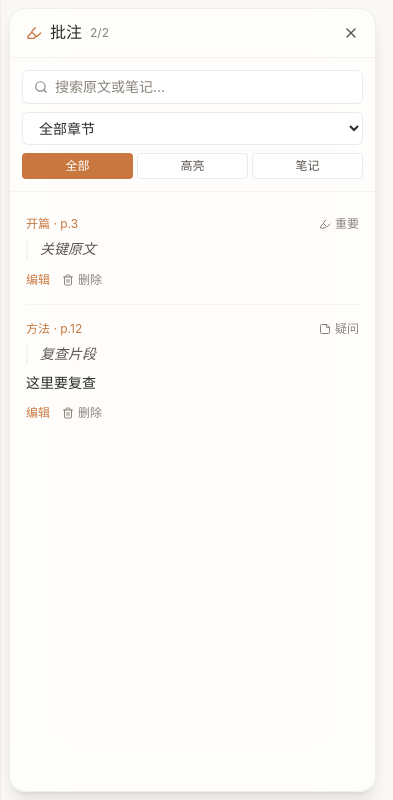
Test case: AnnotationPanel › filters by type and announces empty filtered results
Type "不存在" into the field named "搜索批注原文或笔记" at (192, 87), box x1=22 y1=70 x2=363 y2=104
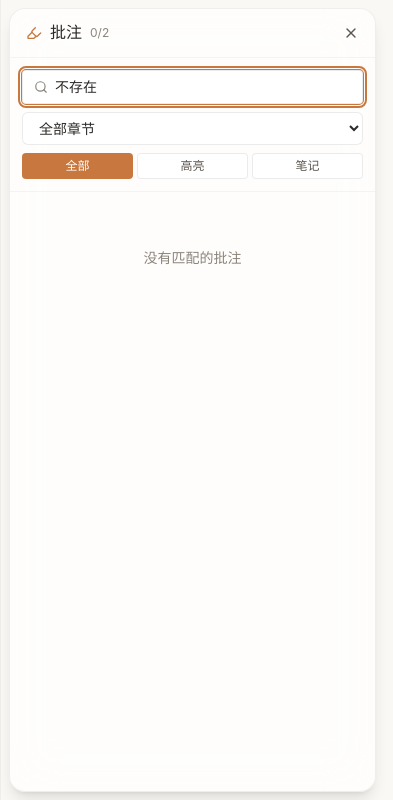
Expected: the message named "批注空状态" reads "没有匹配的批注", x1=144 y1=249 x2=242 y2=266
